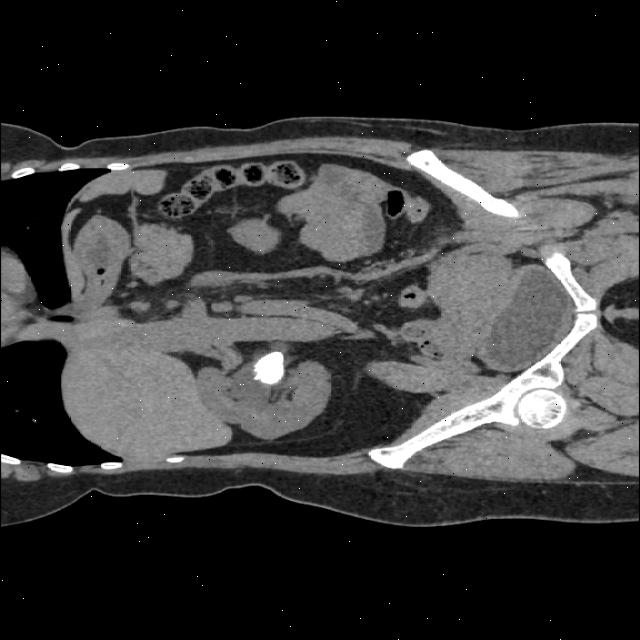kidneystone: (254, 351, 284, 384)
